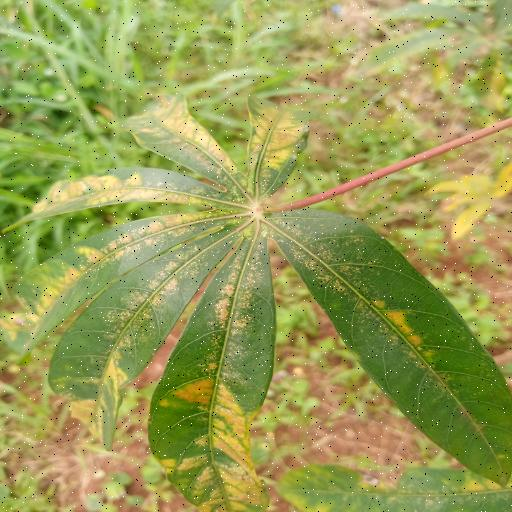Cassava_Mosaic: (17, 77, 512, 506)
